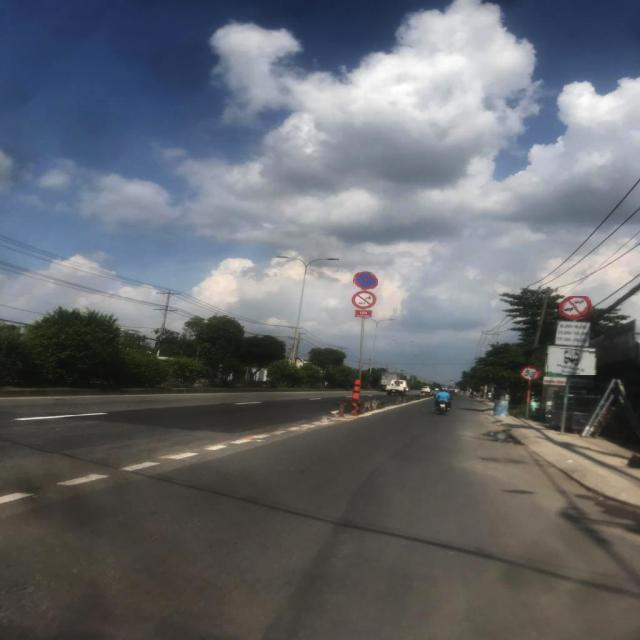107-cam-oto-khach-va-oto-tai: (560, 296, 592, 320)
127-toc-do-toi-da-50: (520, 366, 540, 380)
130-cam-dung-va-do-xe: (352, 271, 380, 289)
